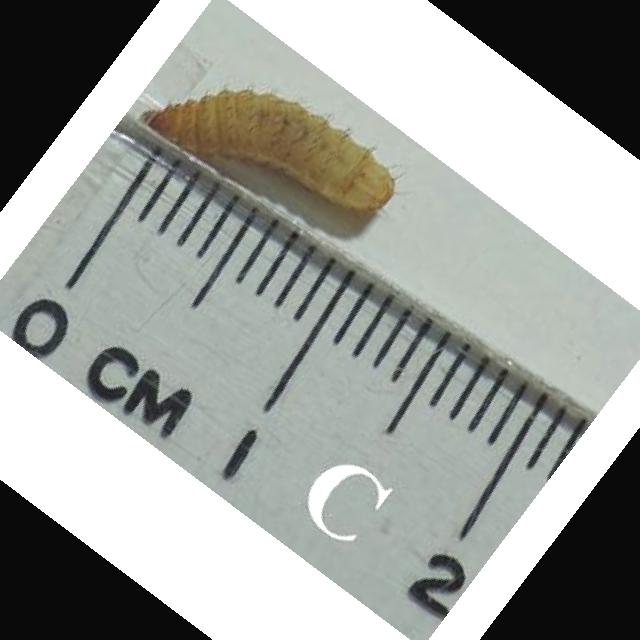Maggot: (141, 86, 399, 210)
